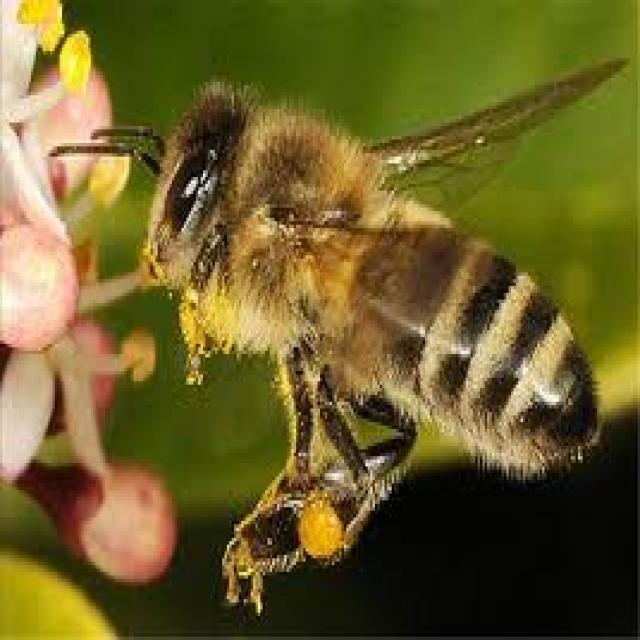Bees: (60, 57, 628, 540)
